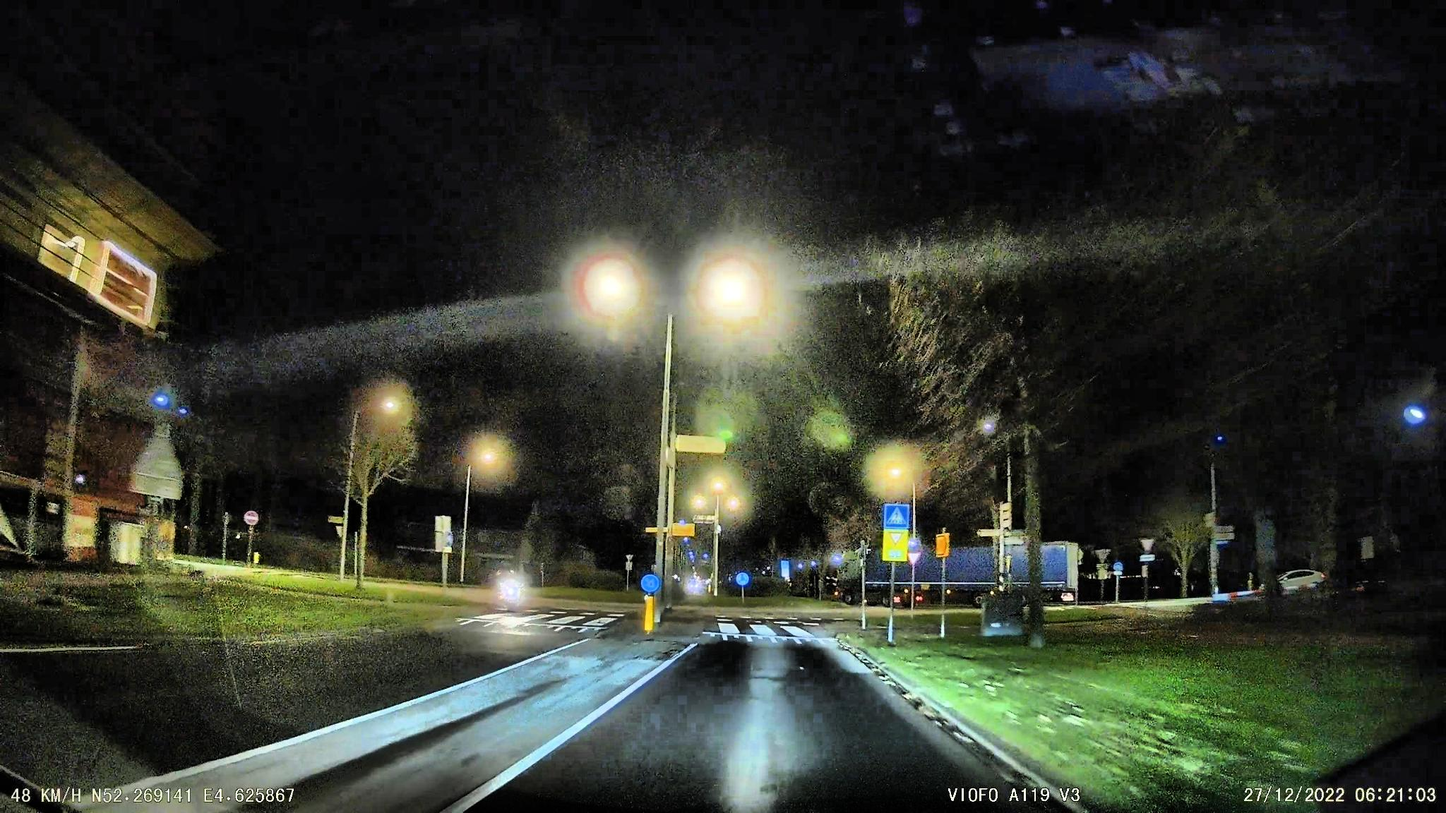Roads: (0, 614, 1065, 813)
